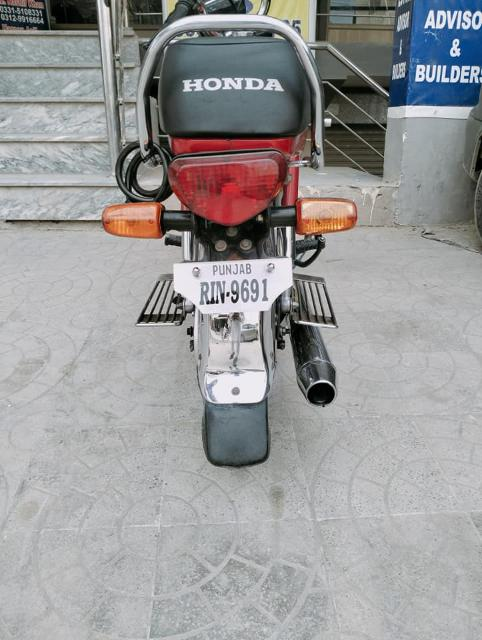plate: (170, 251, 296, 323)
